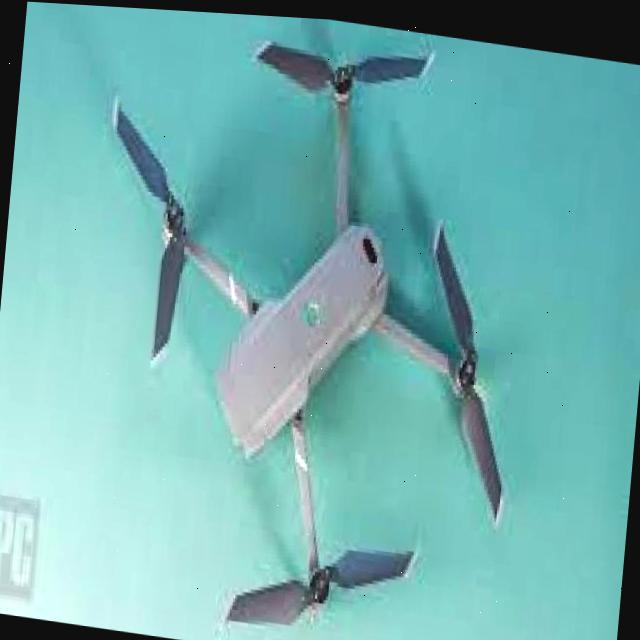drone: (40, 26, 548, 607)
